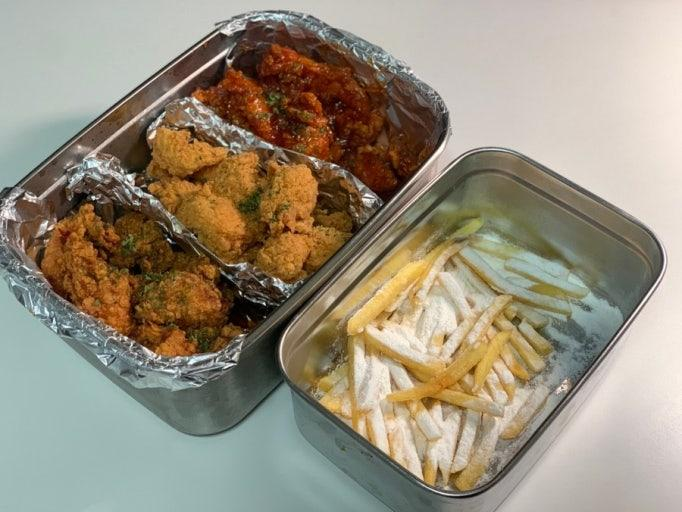Lunch Box: (0, 10, 449, 434), (277, 148, 666, 511)
